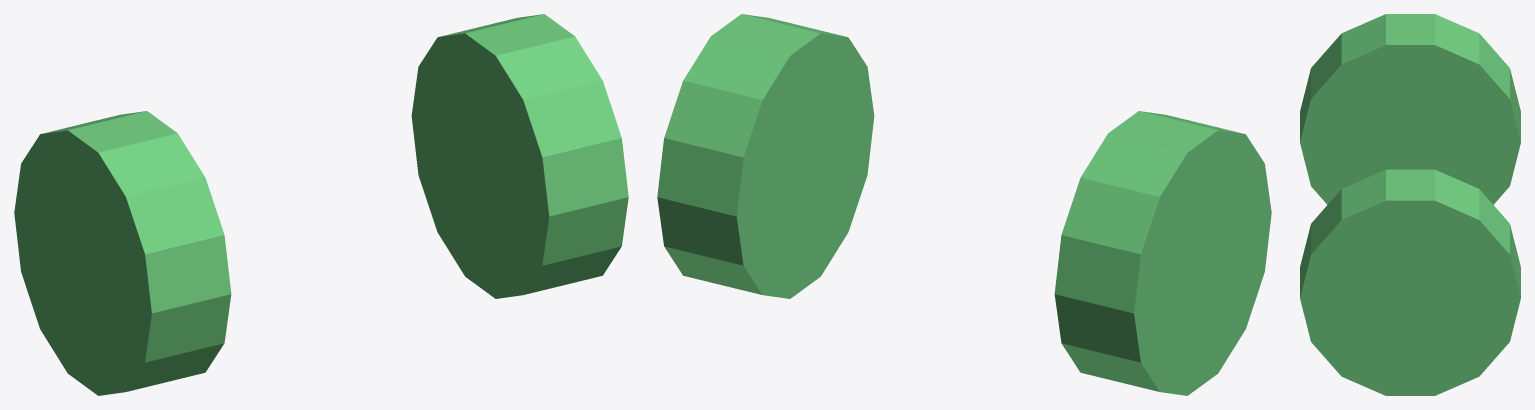
The model's file is headphones_m0_1.glb.
The picture shows the model from 3 angles, left to right: view 1: azimuth 30°, elevation 25°; view 2: azimuth 150°, elevation 25°; view 3: azimuth 270°, elevation 25°; orthographic projection. The views are drawn at different scales.
Parts seen in each view (by area): view 1: headphones_m0_1_mesh; view 2: headphones_m0_1_mesh; view 3: headphones_m0_1_mesh.
Part boxes in pixels (x1,y1,x2,y2): headphones_m0_1_mesh: [14, 14, 628, 395]; headphones_m0_1_mesh: [657, 14, 1271, 395]; headphones_m0_1_mesh: [1300, 14, 1520, 395].
Bounding box in the file's own units: 0.72 × 0.351 × 0.36.
